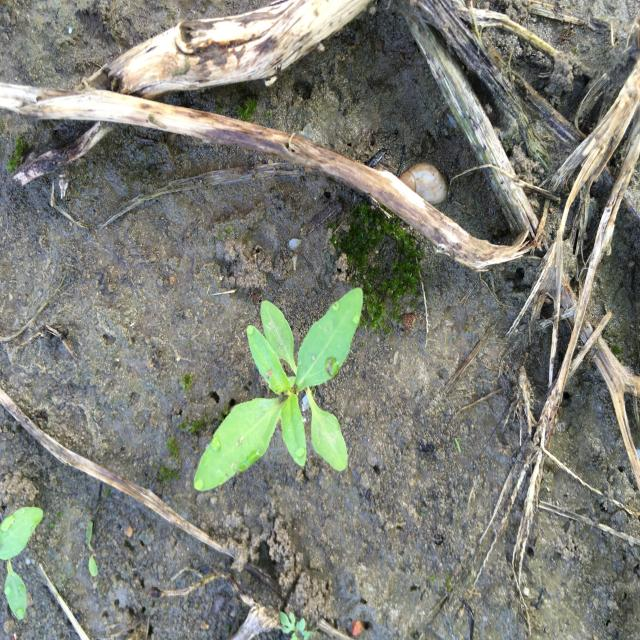Eclipta: (190, 285, 367, 494)
